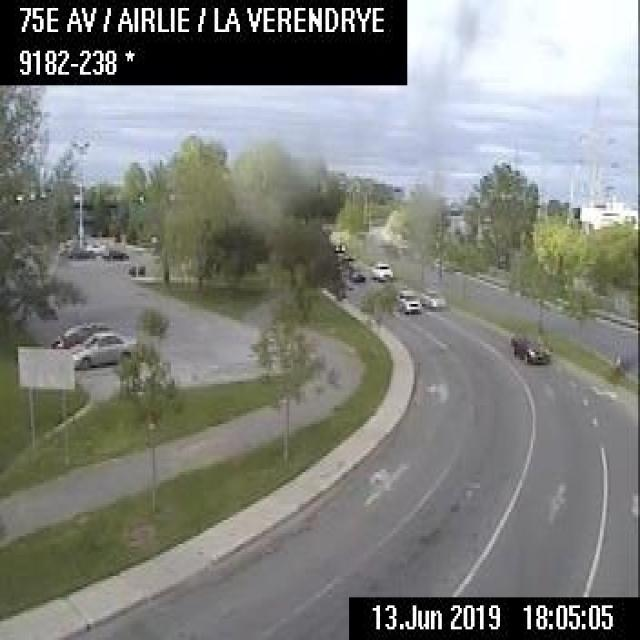vehicle: (72, 328, 136, 366), (51, 319, 109, 347), (505, 330, 552, 364), (394, 285, 422, 313), (418, 286, 445, 309), (66, 244, 95, 260), (371, 259, 392, 281), (102, 245, 128, 262), (347, 266, 364, 282), (333, 236, 346, 253)
